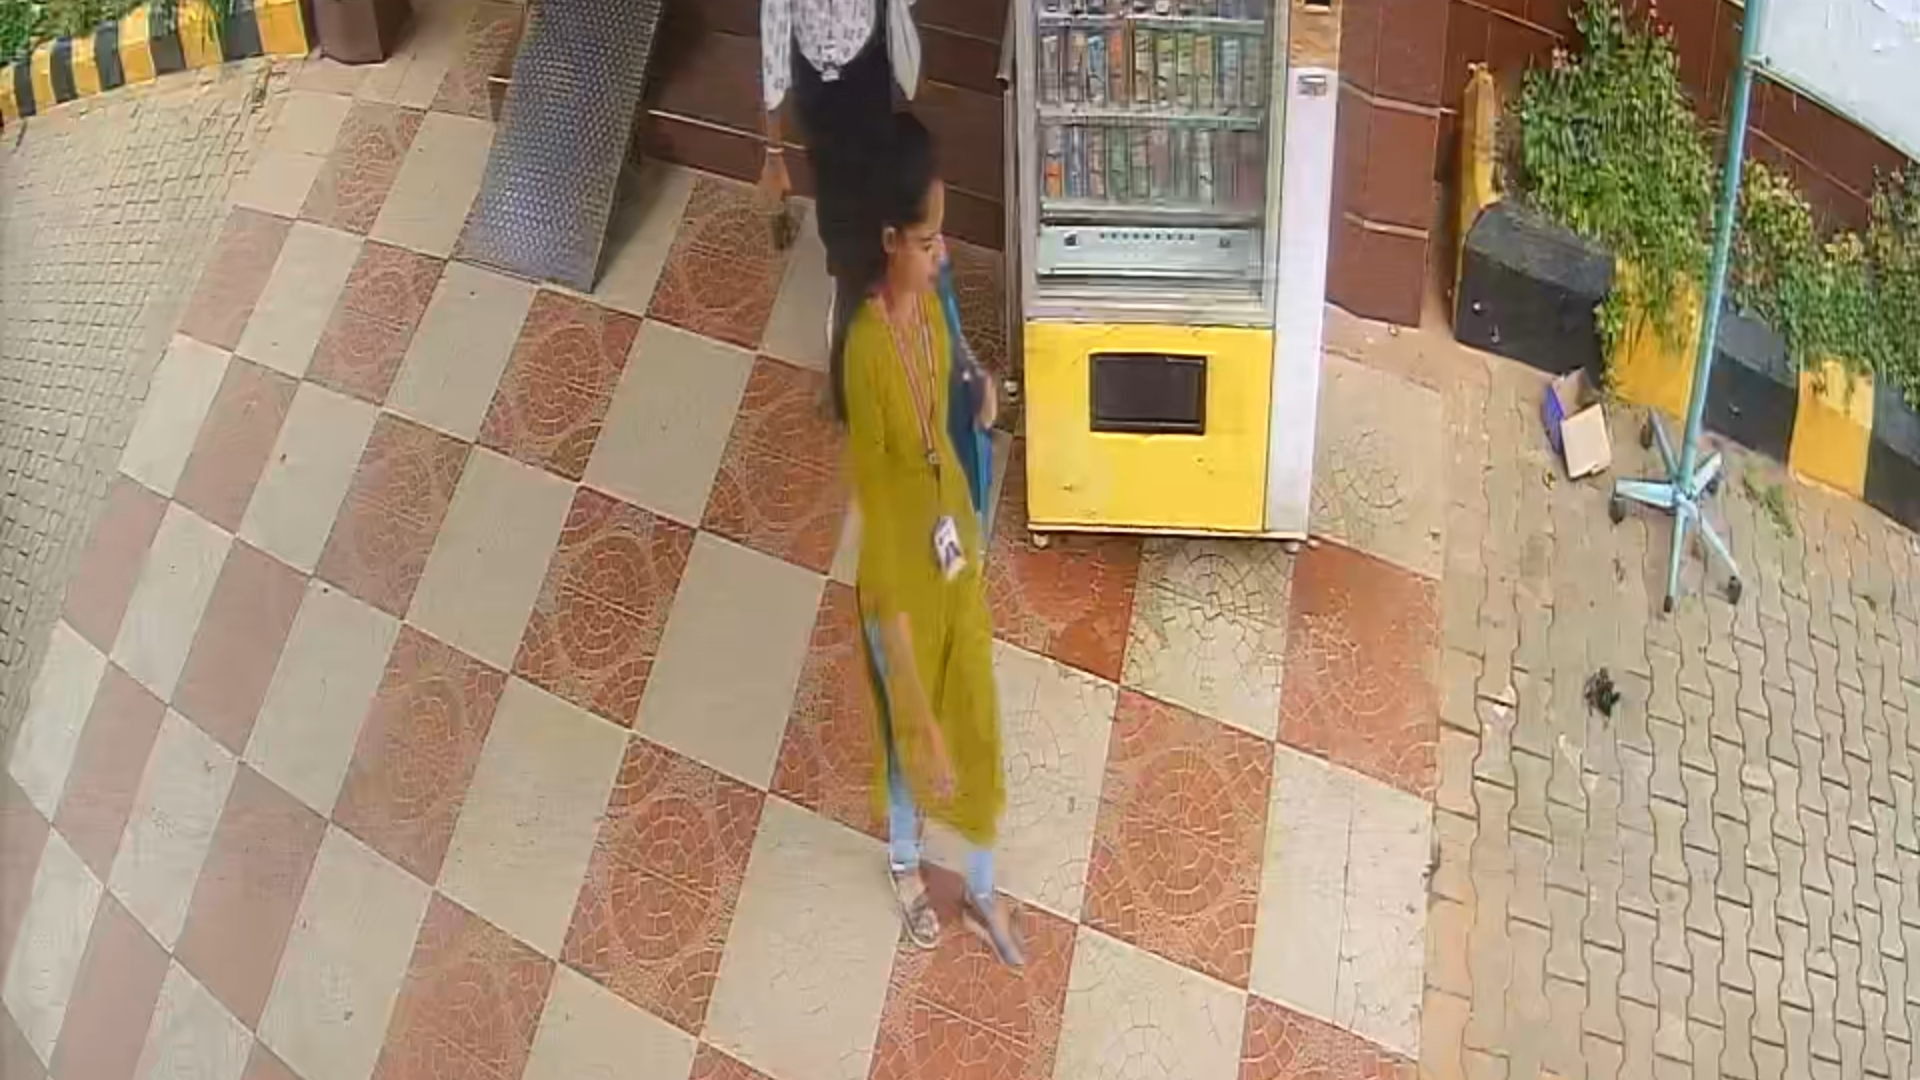not intruder: (808, 116, 1054, 980)
